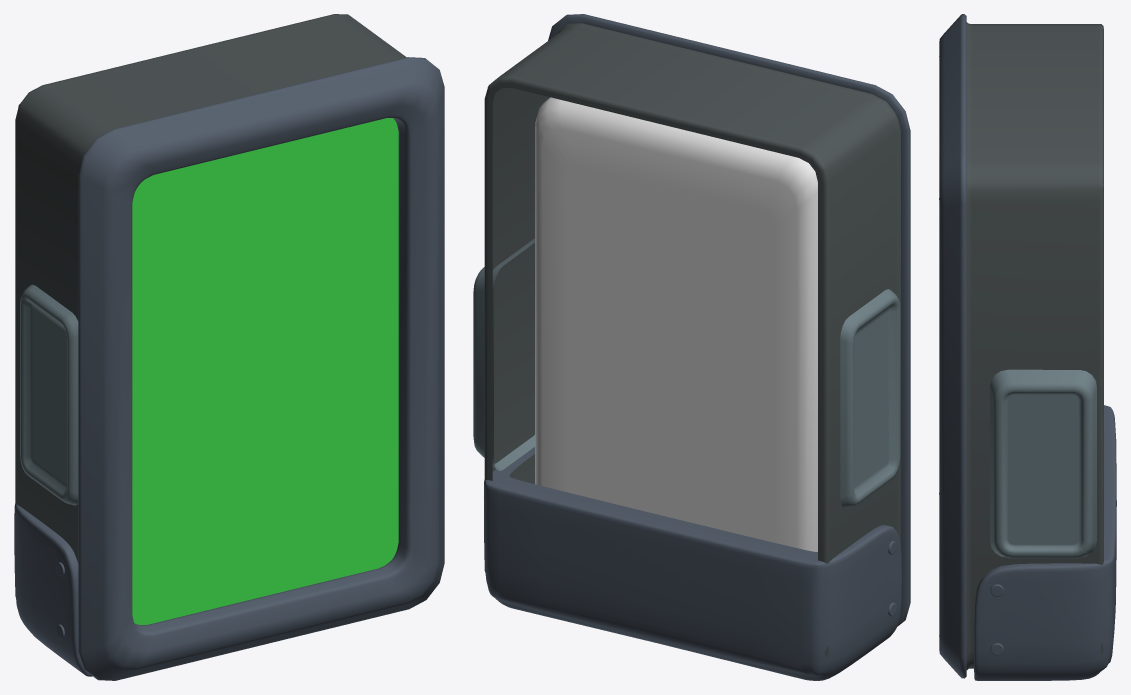
3 views of the same model, side by side, from view 1: azimuth 30°, elevation 25°; view 2: azimuth 150°, elevation 25°; view 3: azimuth 270°, elevation 25° (orthographic). The views are drawn at different scales.
Parts seen in each view (by area): view 1: d1_low, d1_mattscreen, Cube; view 2: d1_low, Cube; view 3: d1_low, Cube.
Boxes of the visible parts, x1,y1,x2,y2 form: d1_low: (15,14,444,680); d1_mattscreen: (132,118,398,624); Cube: (14,504,92,676); d1_low: (473,14,910,657); Cube: (484,447,901,680); d1_low: (939,14,1103,678); Cube: (974,405,1116,680).
Bounding box in the file's own units: 0.8121 × 1.14 × 0.3512.
5 materials, 1 textured.
